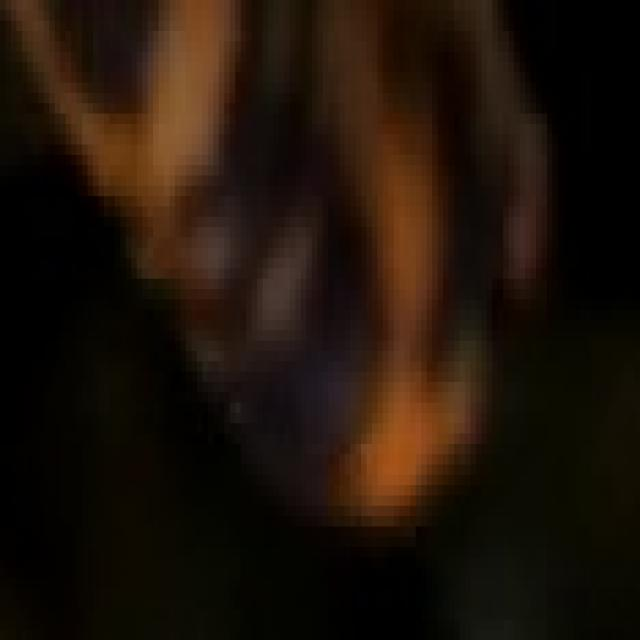fish: (0, 0, 635, 630)
